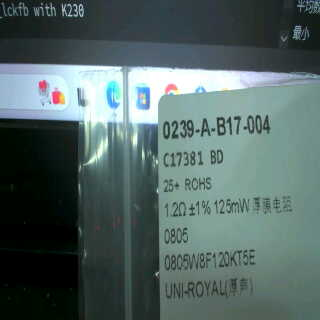1.2R: (161, 199, 189, 248)
